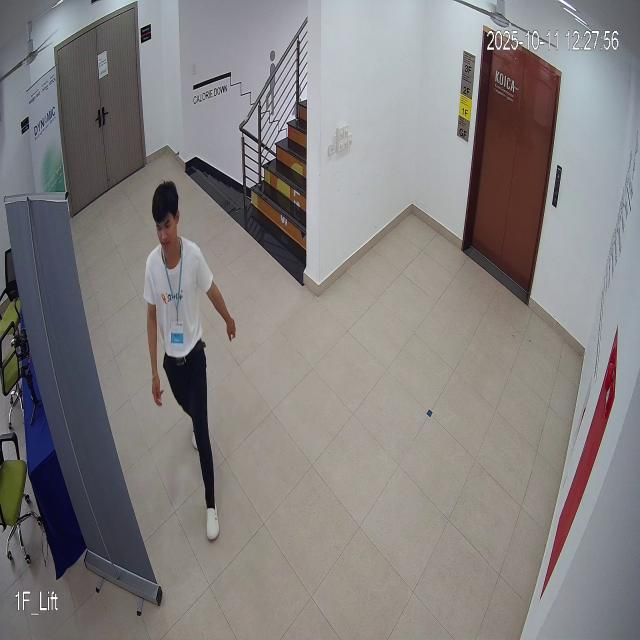face: (147, 179, 183, 255)
